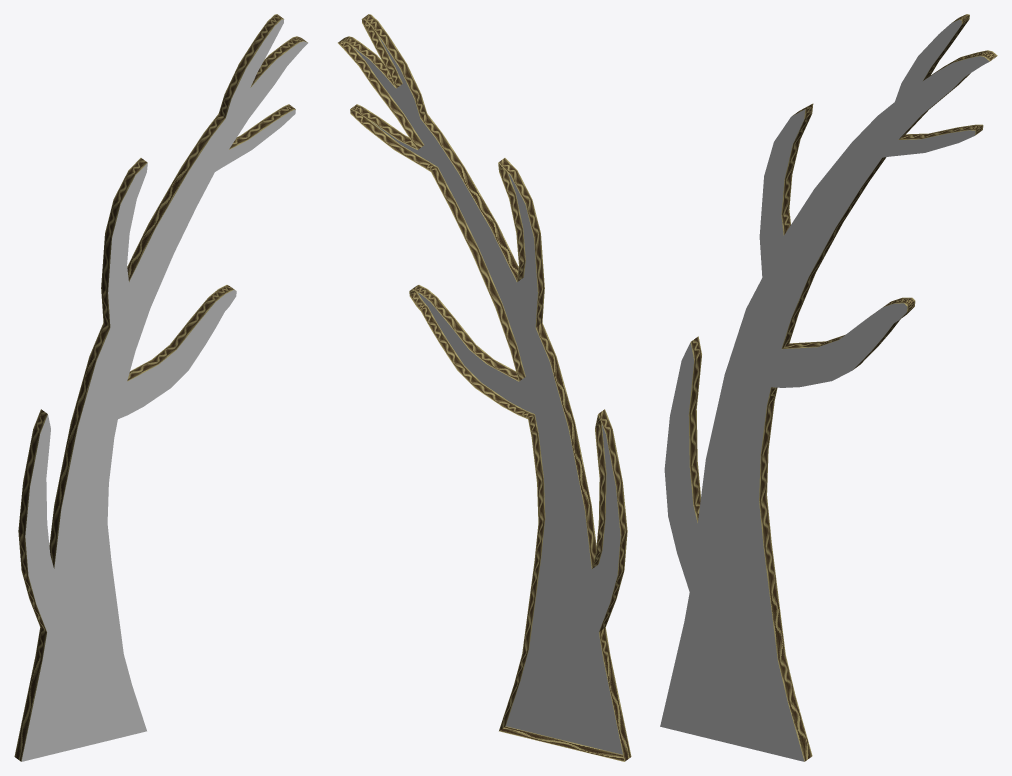
File: tree_03.fbx
3 views of the same model, side by side, from view 1: azimuth 30°, elevation 25°; view 2: azimuth 150°, elevation 25°; view 3: azimuth 330°, elevation 25° (orthographic). The views are drawn at different scales.
Visible parts, largest first — view 1: tree_03; view 2: tree_03; view 3: tree_03.
Boxes of the visible parts, left/top/right/bottom form: tree_03: left=14, top=14, right=307, bottom=761; tree_03: left=338, top=14, right=631, bottom=761; tree_03: left=660, top=14, right=997, bottom=761.
Bounding box in the file's own units: 1.89 × 4.27 × 0.0795.
